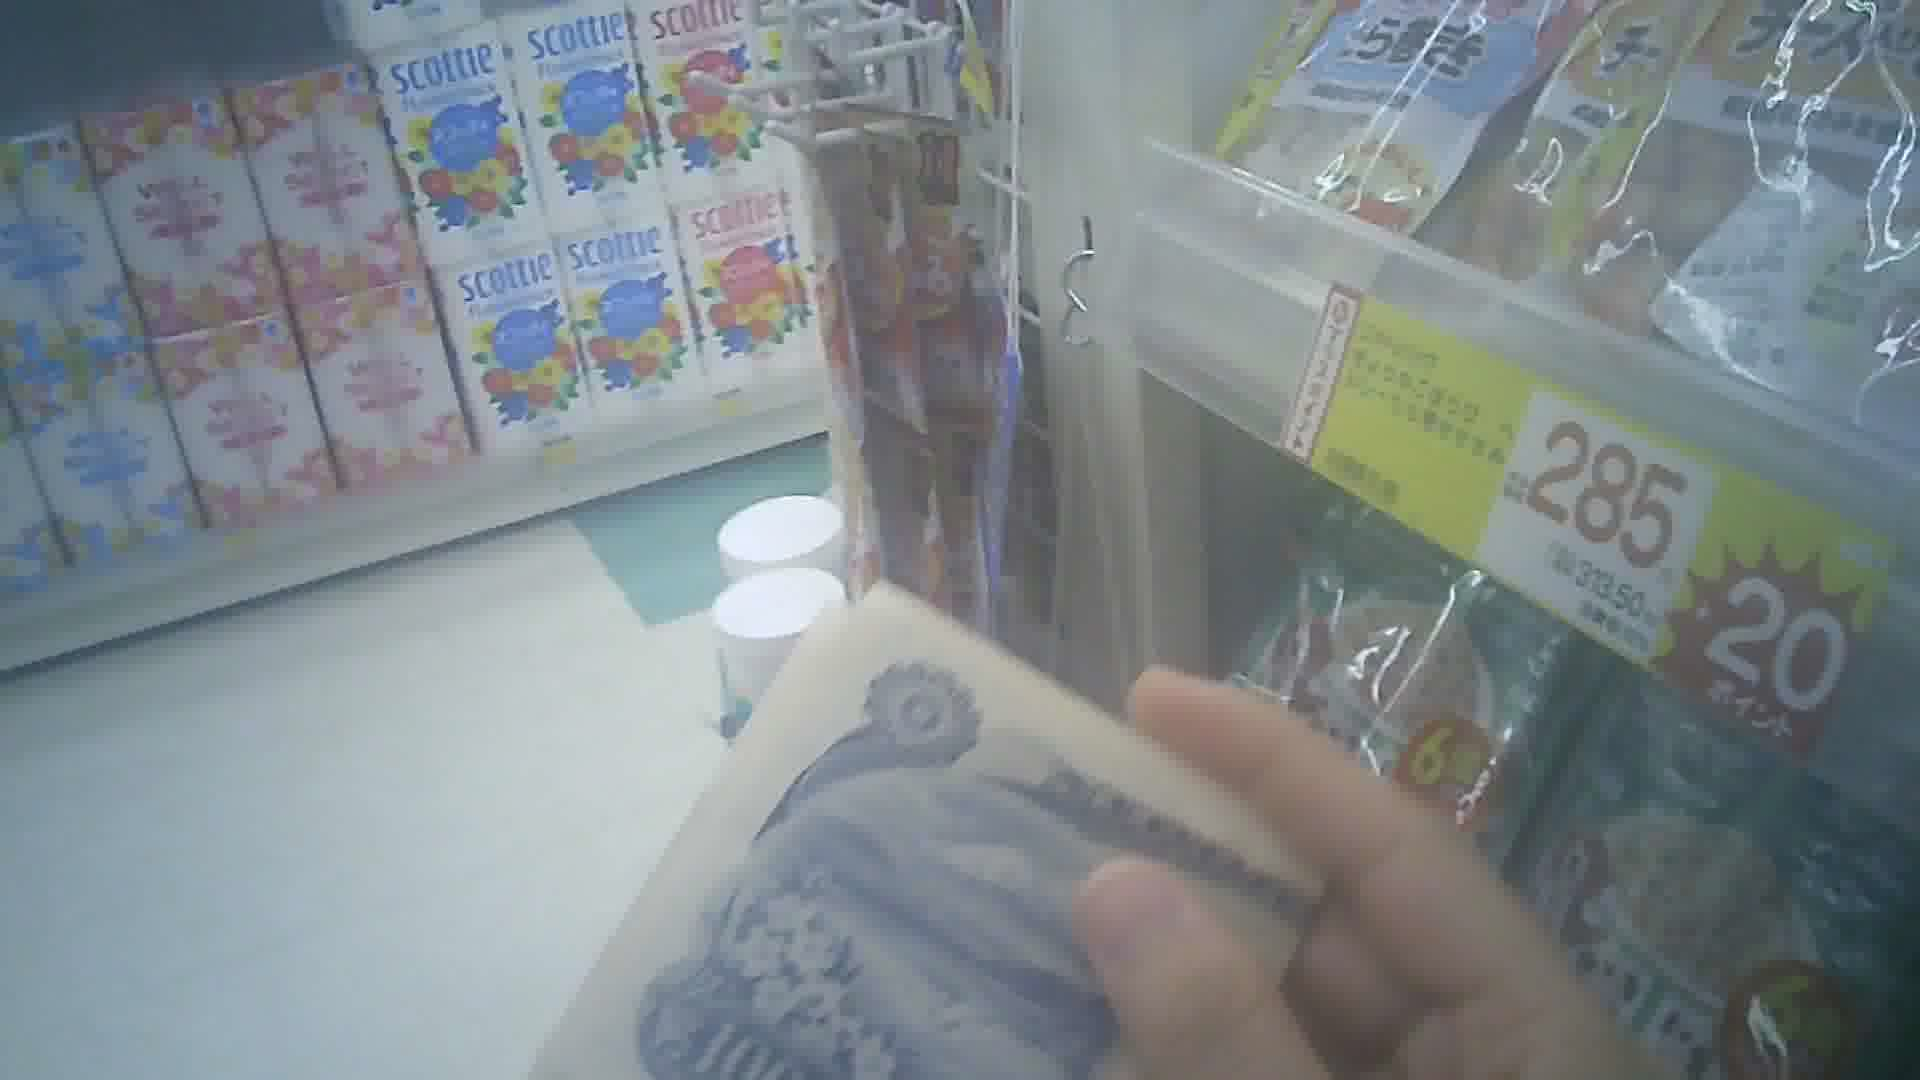1,000 Yen: (545, 589, 1333, 1079)
